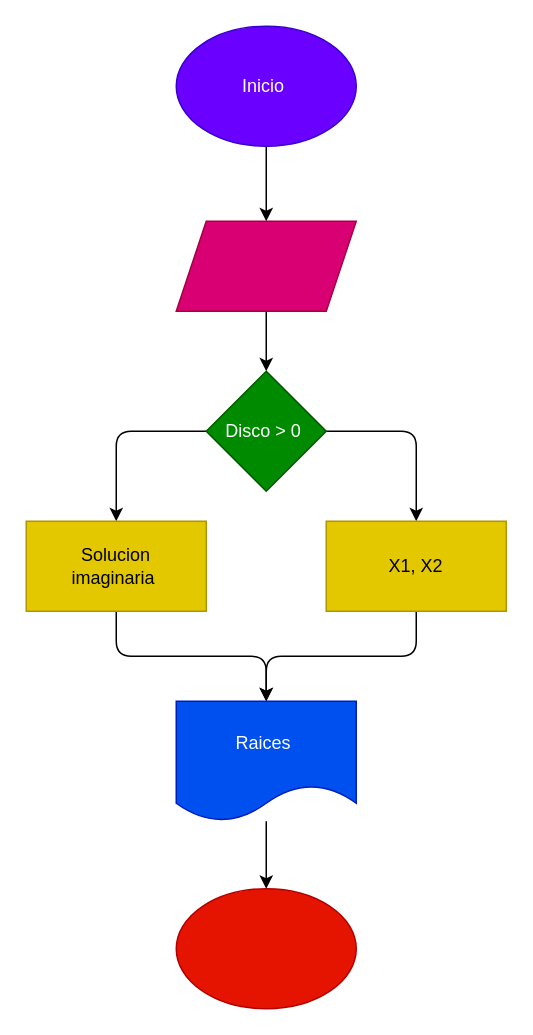
This 533x1035 diagram has some shape labels left out. The shapes that lost their labels are listed below. From the top down, each one's centre as x and y in pixels, then its label:
At pixel 265 265: "A, B, C".
At pixel 265 948: "Fin".
